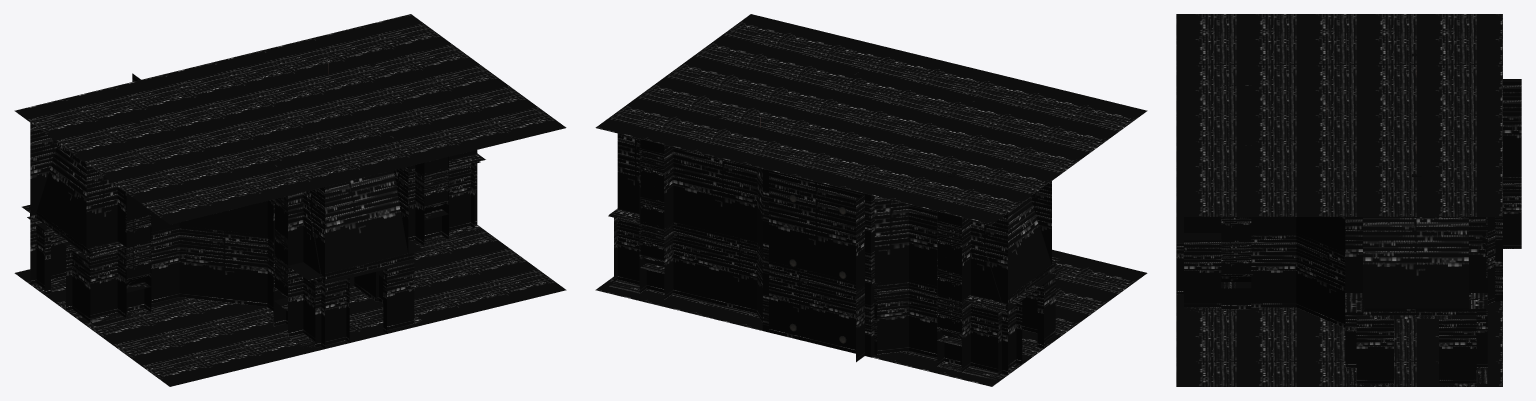
Rendered from room3_2_opt.obj.
The picture shows the model from 3 angles, left to right: view 1: azimuth 30°, elevation 25°; view 2: azimuth 150°, elevation 25°; view 3: azimuth 270°, elevation 25°; orthographic projection. The views are drawn at different scales.
Bounding box in the file's own units: 2048 × 855 × 1472.
